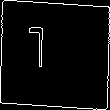L_S: (46, 29, 64, 81)
